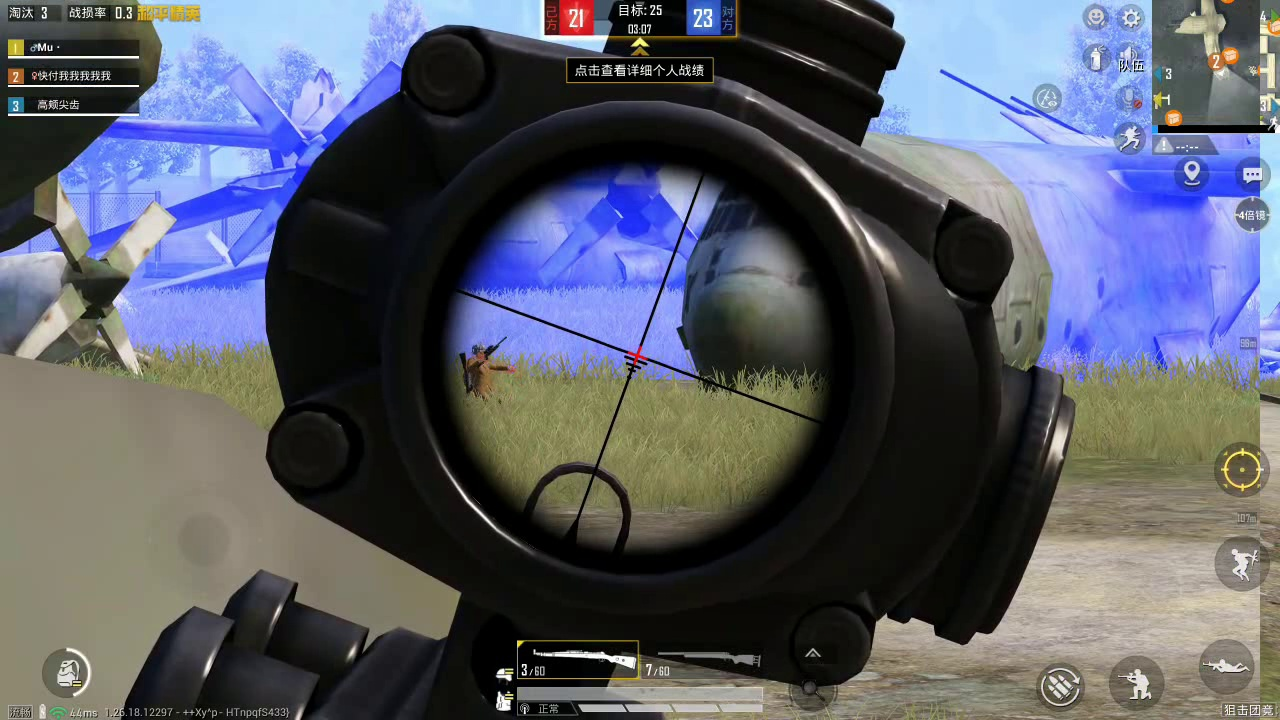enemy: (466, 340, 508, 402)
